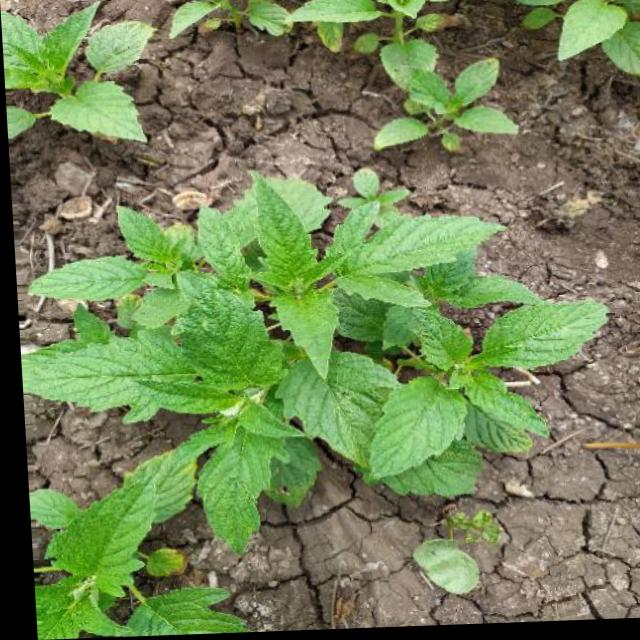crop: (9, 163, 616, 556), (24, 466, 246, 635), (1, 2, 157, 155), (381, 64, 512, 153), (506, 0, 640, 86), (159, 0, 292, 50)
